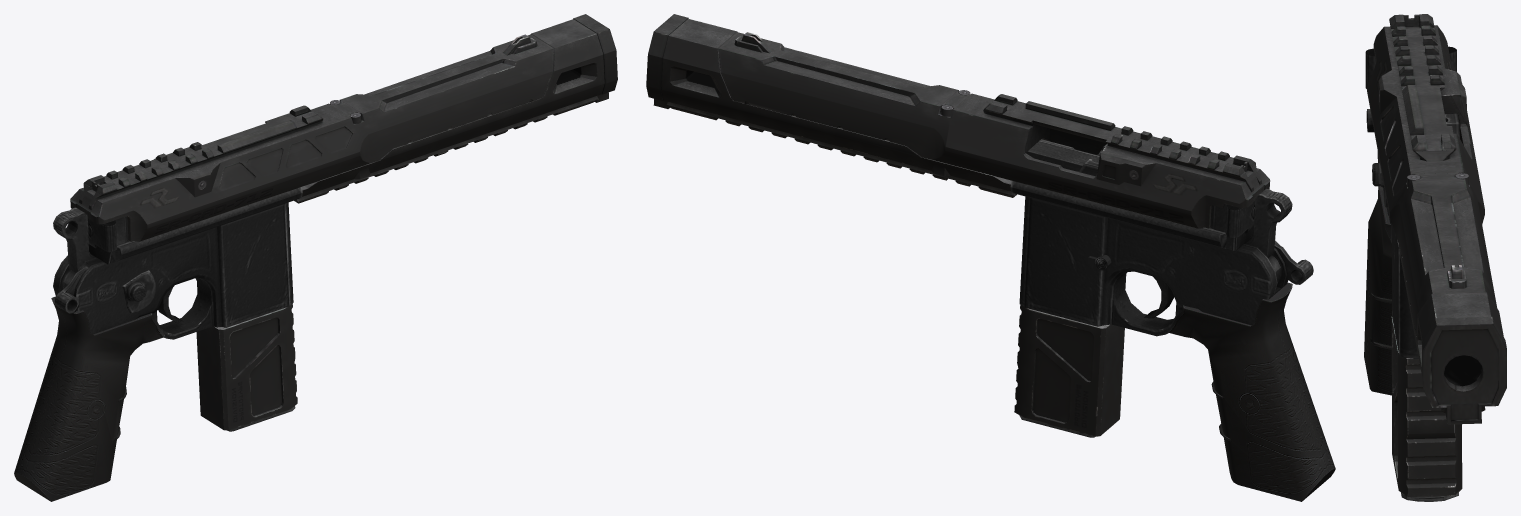
The model's file is tactic_mauser_pistol.glb.
3 views of the same model, side by side, from view 1: azimuth 30°, elevation 25°; view 2: azimuth 150°, elevation 25°; view 3: azimuth 270°, elevation 25° (orthographic). The views are drawn at different scales.
Visible parts, largest first — view 1: Object_2, Object_6, Object_5, Object_4, Object_3; view 2: Object_2, Object_6, Object_5, Object_4, Object_3; view 3: Object_2, Object_4, Object_3, Object_5, Object_6.
Boxes of the visible parts, box(x1,y1,x2,y2) form: Object_2: box(70, 34, 553, 241); Object_6: box(53, 187, 302, 431); Object_5: box(14, 296, 164, 501); Object_4: box(294, 14, 617, 203); Object_3: box(196, 304, 297, 430); Object_2: box(718, 32, 1270, 228); Object_6: box(1010, 139, 1313, 437); Object_5: box(1167, 282, 1335, 501); Object_4: box(646, 14, 1016, 197); Object_3: box(1014, 305, 1124, 436); Object_2: box(1367, 14, 1496, 335); Object_4: box(1397, 240, 1506, 424); Object_3: box(1391, 316, 1462, 496); Object_5: box(1364, 151, 1391, 395); Object_6: box(1365, 46, 1459, 501).
Size of the model in its own units: 345 by 173 by 53.89.
Materials: 5 (5 with a texture image).
